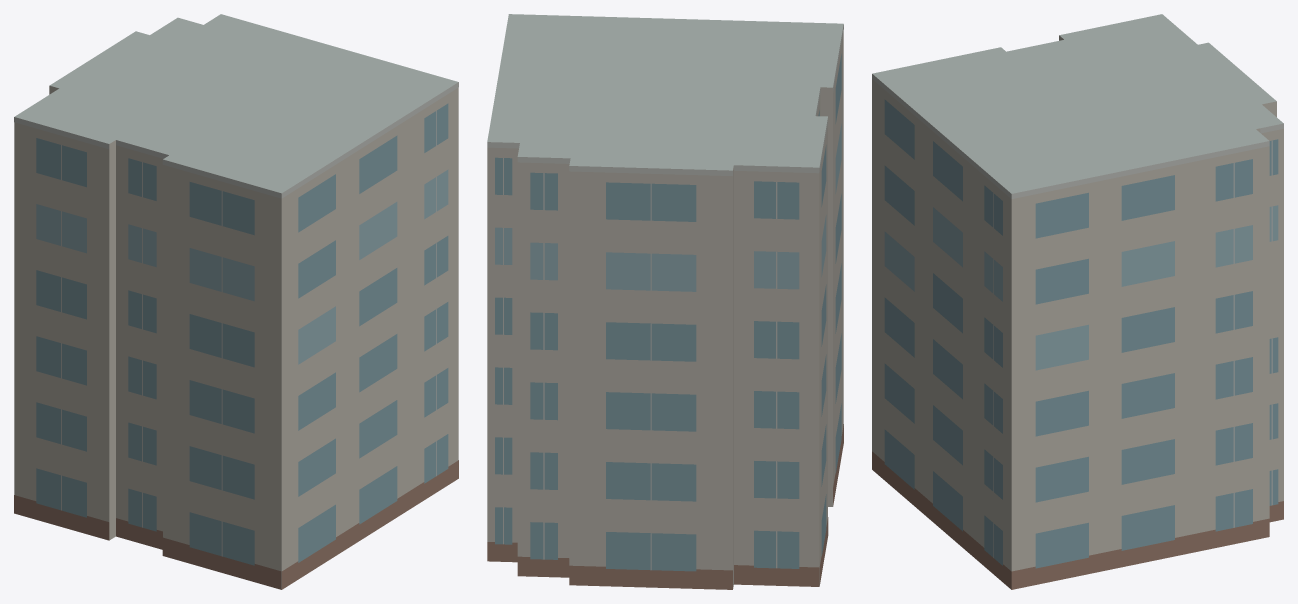
Rendered from survey-upis-32739013.glb.
The picture shows the model from 3 angles, left to right: view 1: azimuth 30°, elevation 25°; view 2: azimuth 150°, elevation 25°; view 3: azimuth 270°, elevation 25°; orthographic projection. The views are drawn at different scales.
Parts seen in each view (by area): view 1: survey-upis-32739013.tmp; view 2: survey-upis-32739013.tmp; view 3: survey-upis-32739013.tmp.
Part boxes in pixels (<box>): survey-upis-32739013.tmp: <box>14,14,458,589</box>; survey-upis-32739013.tmp: <box>487,14,843,589</box>; survey-upis-32739013.tmp: <box>872,14,1283,589</box>.
Size of the model in its own units: 17.84 by 18.3 by 17.26.
